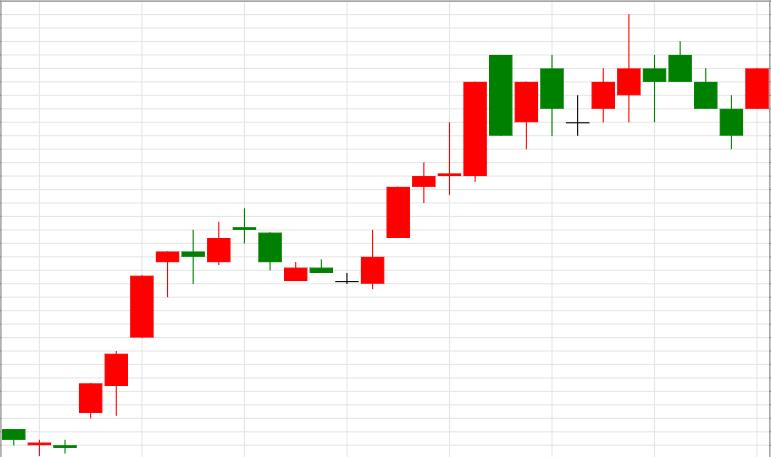evening_star_fall: (79, 208, 282, 420)
